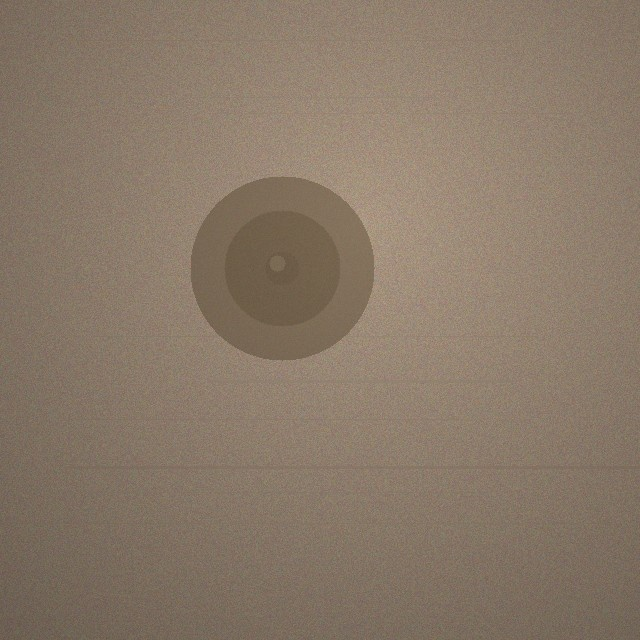good: (190, 176, 374, 360)
